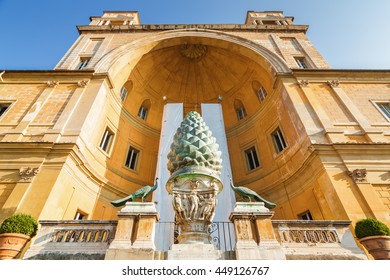Pc: (169, 108, 223, 173)
